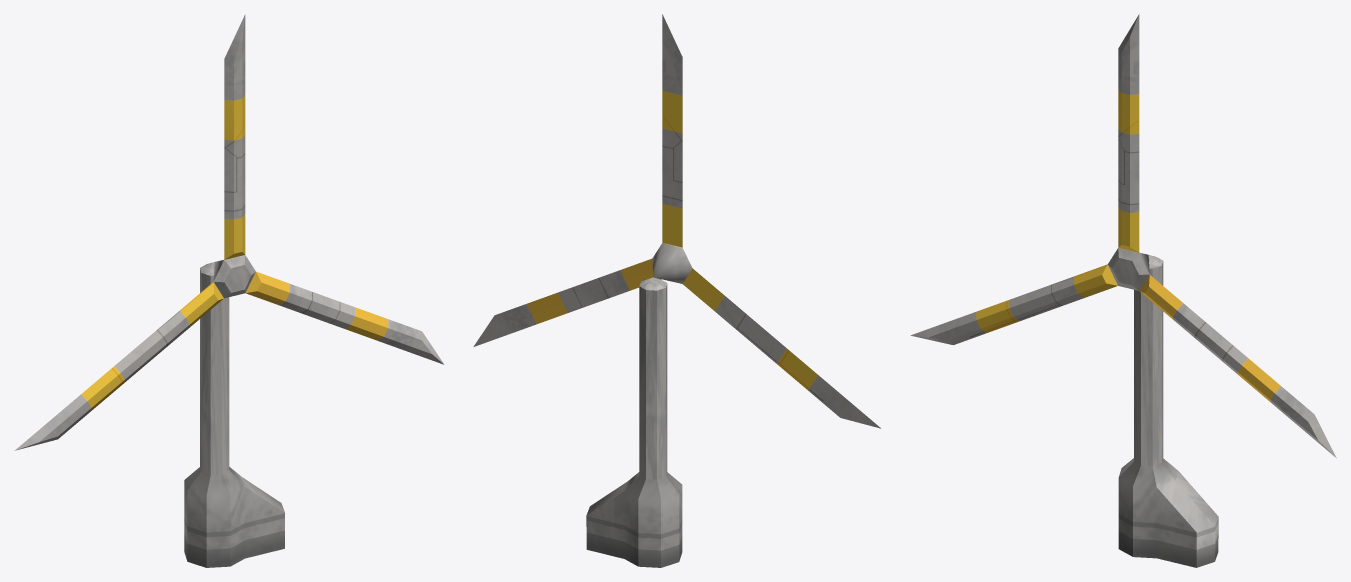
Rendered from Wind_3.fbx.
3 renders of one model, left to right at view 1: azimuth 30°, elevation 25°; view 2: azimuth 150°, elevation 25°; view 3: azimuth 330°, elevation 25°, orthographic. The views are drawn at different scales.
Parts seen in each view (by area): view 1: Wind_blades_3, Wind_base_3; view 2: Wind_blades_3, Wind_base_3; view 3: Wind_blades_3, Wind_base_3.
Part boxes in pixels (bbox=[...]): Wind_blades_3: bbox=[14, 14, 444, 450]; Wind_base_3: bbox=[184, 262, 284, 567]; Wind_blades_3: bbox=[473, 14, 880, 428]; Wind_base_3: bbox=[586, 277, 682, 567]; Wind_blades_3: bbox=[910, 14, 1336, 458]; Wind_base_3: bbox=[1118, 255, 1218, 567].
Size of the model in its own units: 112 by 137 by 17.5.
1 material, 1 textured.
